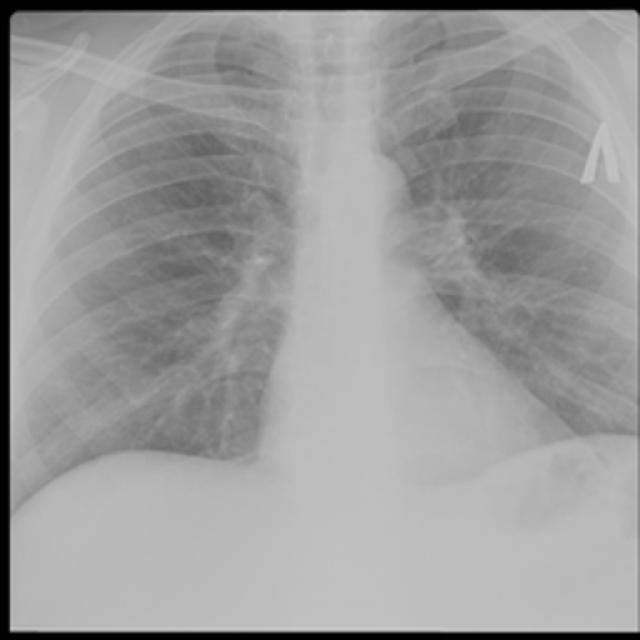abnormalities: (435, 199, 547, 361), (175, 238, 281, 390)
diaphragm: (11, 434, 640, 630)
heart: (273, 145, 610, 519)
left_lobe: (376, 13, 640, 522)
right_lobe: (14, 13, 301, 514)
